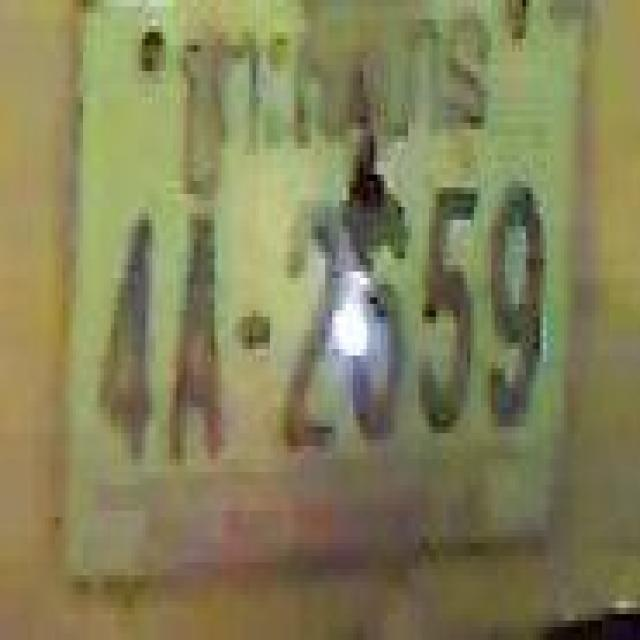Preah_Sihanouk: (176, 0, 491, 193)
